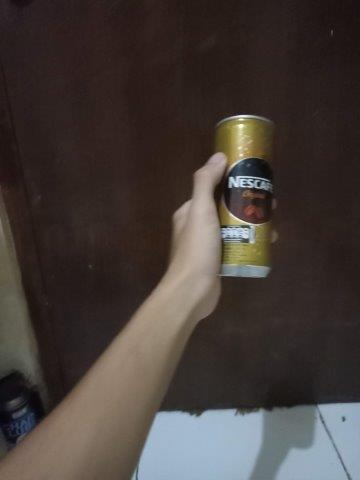kaleng: (215, 114, 274, 278)
